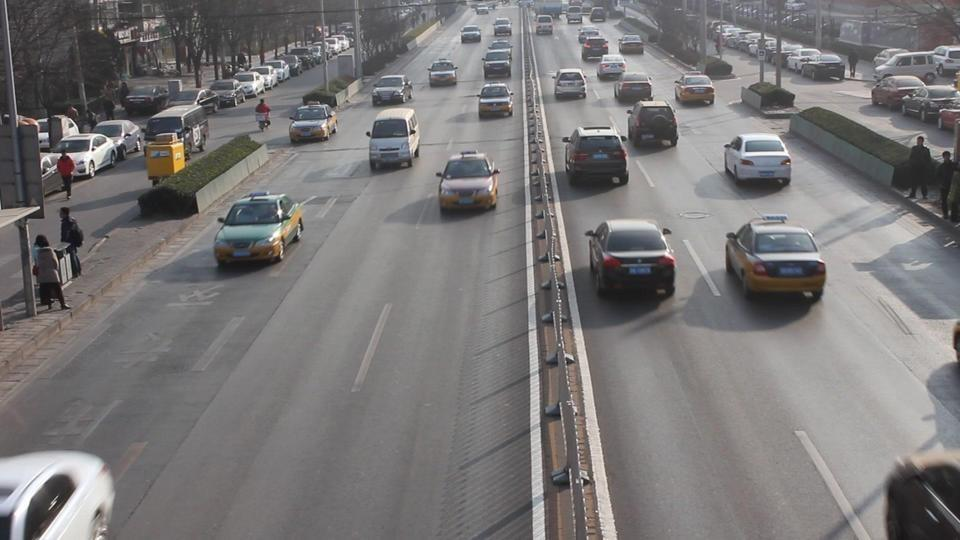car: (0, 450, 118, 538), (724, 216, 827, 302), (585, 218, 677, 299), (212, 192, 305, 266), (884, 454, 960, 537), (562, 125, 629, 188), (723, 133, 793, 187), (437, 153, 501, 210), (366, 109, 422, 172), (144, 103, 211, 153), (47, 134, 120, 178), (626, 100, 679, 151), (900, 84, 960, 123), (145, 134, 189, 184), (92, 120, 145, 160), (870, 75, 928, 110), (289, 104, 337, 144), (120, 82, 175, 116), (674, 72, 716, 106), (613, 71, 654, 104), (477, 83, 514, 119), (371, 75, 414, 105), (482, 42, 513, 79), (554, 69, 588, 100), (596, 54, 629, 82), (427, 59, 459, 87), (939, 101, 960, 132), (460, 25, 481, 44), (493, 18, 512, 37)
